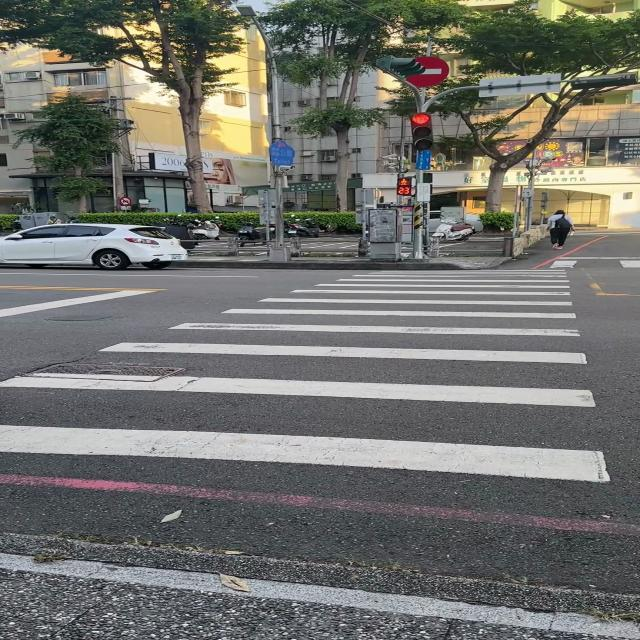car: (0, 224, 188, 270)
crosswalk: (0, 269, 614, 485), (546, 259, 640, 269)
motocycle: (547, 210, 574, 250)
